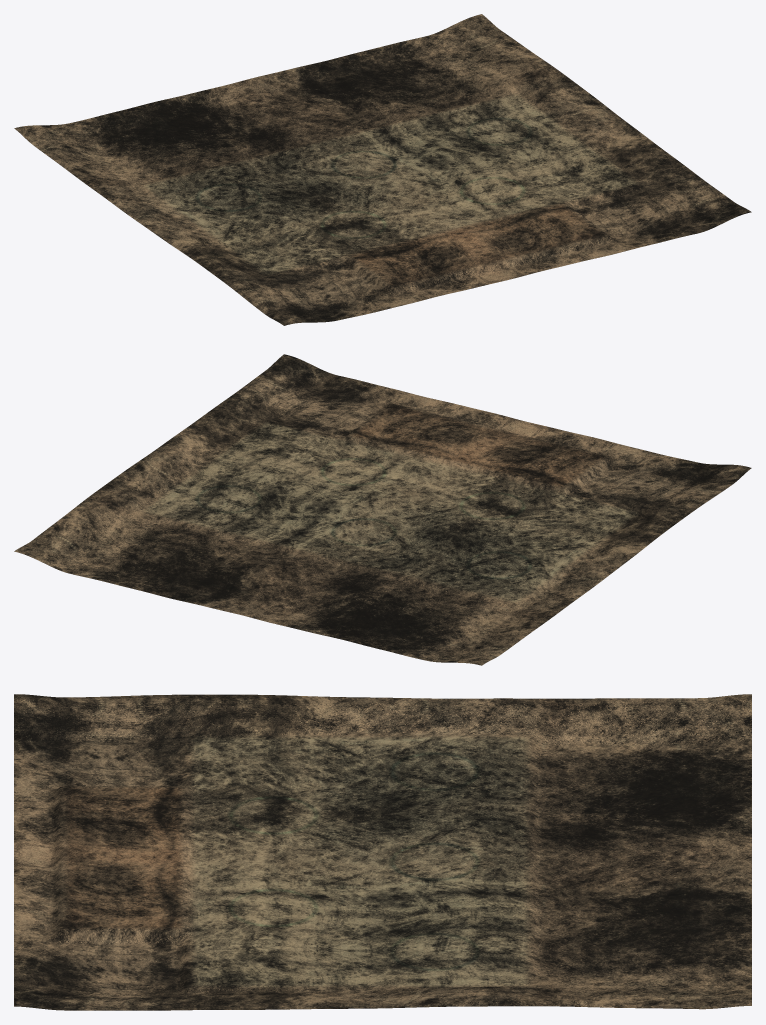
The model's file is showroom-terrain.glb.
3 views of the same model, one above another, from view 1: azimuth 30°, elevation 25°; view 2: azimuth 150°, elevation 25°; view 3: azimuth 270°, elevation 25° (orthographic). The views are drawn at different scales.
Visible parts, largest first — view 1: ShowroomTerrain; view 2: ShowroomTerrain; view 3: ShowroomTerrain.
Boxes of the visible parts, bbox=[...] form: ShowroomTerrain: bbox=[14, 14, 751, 325]; ShowroomTerrain: bbox=[14, 354, 751, 665]; ShowroomTerrain: bbox=[14, 694, 751, 1010].
Bounding box in the file's own units: 128 × 3.49 × 128.
Materials: 1 (1 with a texture image).
